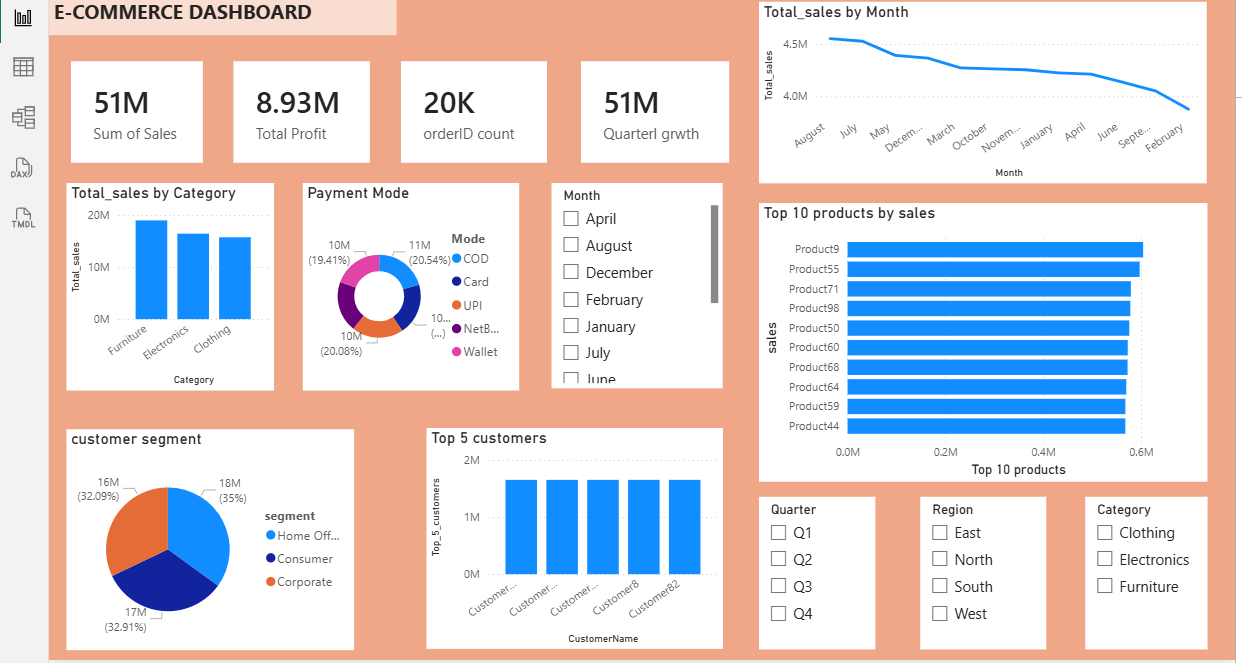

The page's visual inventory and layout, read from the dashboard file:
{"tool":"powerbi","page":{"name":"Page 2","canvas":[1280,720],"ordinal":1},"visuals":[{"type":"textbox","box":[0,0,375,45.9],"z":0},{"type":"cardVisual","fields":{"Data":["Sum(FactOrders.Sales)"]},"box":[19.2,68.6,152.3,119.4],"z":2},{"type":"cardVisual","fields":{"Data":["Sum(FactOrders.Profit)"]},"box":[194.9,68.6,157.8,119.4],"z":3},{"type":"cardVisual","fields":{"Data":["CountNonNull(FactOrders.OrderID)"]},"box":[374.6,68.6,167.4,119.4],"z":4},{"type":"cardVisual","fields":{"Data":["DimDate.quarterly_growth"]},"box":[569.5,68.6,170.2,119.4],"z":5},{"type":"lineChart","fields":{"Category":["DimDate.Month"],"Y":["FactOrders.Total_sales"]},"box":[766.3,9.4,483,195.6],"z":6},{"type":"clusteredColumnChart","fields":{"Category":["DimProduct.Category"],"Y":["FactOrders.Total_sales"]},"box":[18.9,205.1,223.9,223.9],"z":7},{"type":"clusteredBarChart","fields":{"Category":["DimProduct.ProductName"],"Y":["FactOrders.Total_sales"]},"box":[766.3,226.6,484.3,300.8],"z":8},{"type":"pieChart","title":"customer segment","fields":{"Category":["DimCustomer.Segment"],"Y":["FactOrders.Total_sales"]},"box":[18.9,470.8,310.3,238.8],"z":9},{"type":"donutChart","title":"Payment Mode","fields":{"Y":["FactOrders.Total_sales"],"Category":["DimPayment.Mode"]},"box":[273.9,205.1,233.4,223.9],"z":10},{"type":"slicer","fields":{"Values":["DimDate.Month"]},"box":[542.3,205.1,184.8,221.2],"z":11},{"type":"slicer","fields":{"Values":["DimDate.Quarter"]},"box":[766.3,543.7,125.5,164.6],"z":12},{"type":"slicer","fields":{"Values":["DimRegion.Region"]},"box":[940.3,543.7,136.3,164.6],"z":13},{"type":"slicer","fields":{"Values":["DimProduct.Category"]},"box":[1118.4,543.7,132.2,164.6],"z":14},{"type":"clusteredColumnChart","title":"Top 5 customers","fields":{"Y":["FactOrders.Top_5_customers"],"Category":["DimCustomer.CustomerName"]},"box":[407.4,469.5,319.7,238.8],"z":15}]}

Visuals, with their boxes on the page's 1280x720 design canvas (x1, y1, x2, y2). These are canvas units, not pixel positions in the 1242x663 screenshot, which may show the page scaled, cropped or inside an application window:
textbox: (0, 0, 375, 46)
cardVisual - Sum(FactOrders.Sales): (19, 69, 172, 188)
cardVisual - Sum(FactOrders.Profit): (195, 69, 353, 188)
cardVisual - CountNonNull(FactOrders.OrderID): (375, 69, 542, 188)
cardVisual - DimDate.quarterly_growth: (570, 69, 740, 188)
lineChart - DimDate.Month x FactOrders.Total_sales: (766, 9, 1249, 205)
clusteredColumnChart - DimProduct.Category x FactOrders.Total_sales: (19, 205, 243, 429)
clusteredBarChart - DimProduct.ProductName x FactOrders.Total_sales: (766, 227, 1251, 527)
"customer segment" pieChart: (19, 471, 329, 710)
"Payment Mode" donutChart: (274, 205, 507, 429)
slicer - DimDate.Month: (542, 205, 727, 426)
slicer - DimDate.Quarter: (766, 544, 892, 708)
slicer - DimRegion.Region: (940, 544, 1077, 708)
slicer - DimProduct.Category: (1118, 544, 1251, 708)
"Top 5 customers" clusteredColumnChart: (407, 470, 727, 708)
